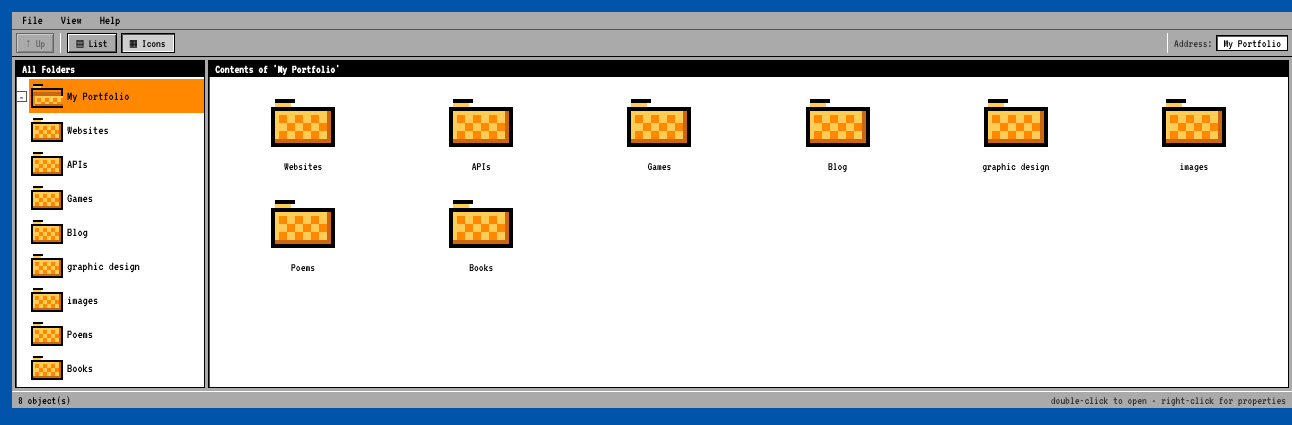
Scenario: Explorer on the desktop › opens the pane's menu on right-click in empty space
Right-click the element that starts with "Contents of '": (748, 224) [208,60,1289,388]
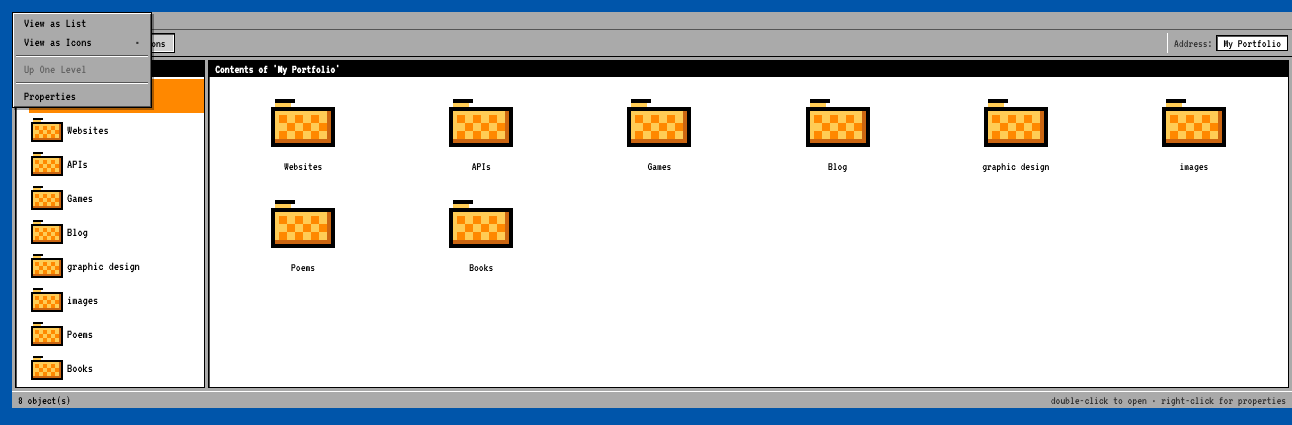
Now the menu item "View as List" is shown, box [14,14,150,33]
Now the menu item "Up One Level" is shown, box [14,60,150,79]
